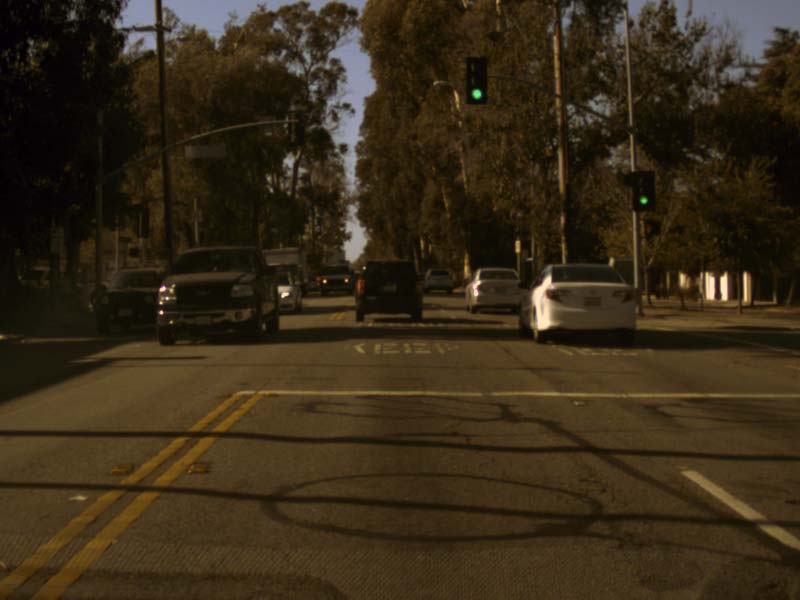Green: (465, 56, 488, 104), (632, 170, 655, 210)
